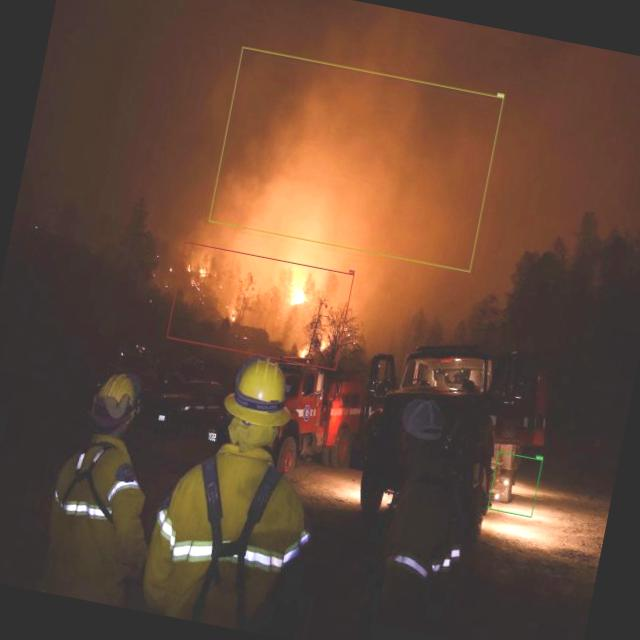fire: (166, 242, 355, 371)
smoke: (208, 46, 504, 272)
